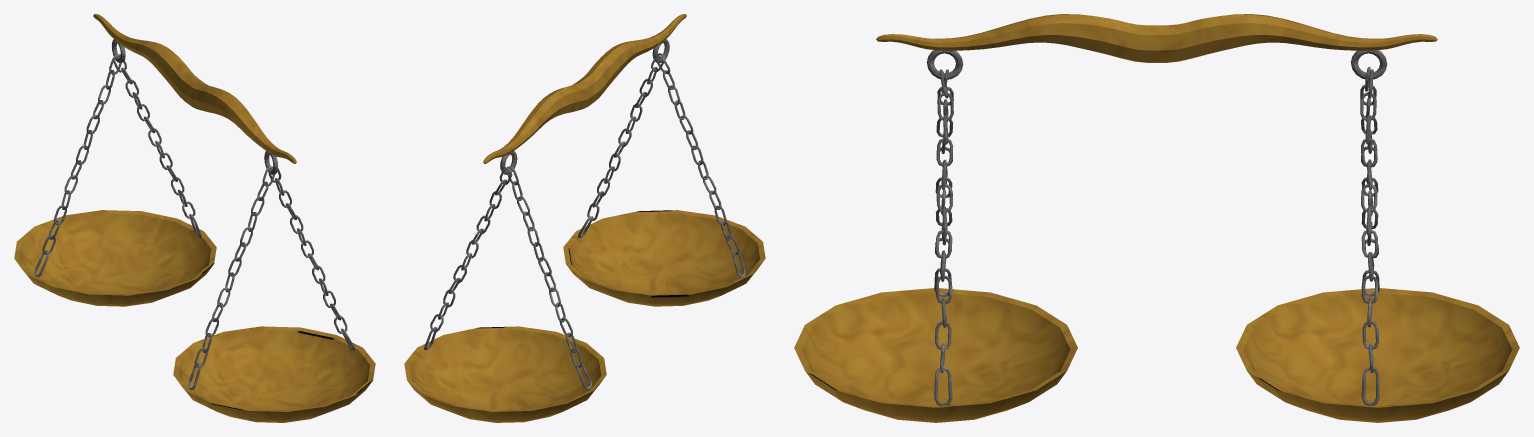
File: ParteSuperior.glb
The picture shows the model from 3 angles, left to right: view 1: azimuth 30°, elevation 25°; view 2: azimuth 150°, elevation 25°; view 3: azimuth 270°, elevation 25°; orthographic projection. The views are drawn at different scales.
Visible parts, largest first — view 1: LeftScale_3, RightScale_7, Beam_0, Chains.002_1, Chains.001_6, Chains_5, Chains.003_2; view 2: RightScale_7, LeftScale_3, Beam_0, Chains.002_1, Chains.001_6, Chains_5, Chains.003_2; view 3: LeftScale_3, RightScale_7, Beam_0, Chains.003_2, Chains_5, Chains.001_6, Chains.002_1.
Part boxes in pixels (x1,y1,x2,y2): LeftScale_3: [173, 326, 375, 422]; RightScale_7: [14, 210, 216, 306]; Beam_0: [93, 14, 296, 163]; Chains.002_1: [188, 166, 275, 389]; Chains.001_6: [34, 54, 121, 276]; Chains_5: [113, 54, 201, 237]; Chains.003_2: [268, 167, 355, 350]; RightScale_7: [404, 326, 606, 422]; LeftScale_3: [563, 210, 765, 306]; Beam_0: [483, 14, 686, 163]; Chains.002_1: [657, 56, 745, 277]; Chains.001_6: [507, 166, 591, 389]; Chains_5: [424, 167, 512, 349]; Chains.003_2: [578, 53, 665, 237]; LeftScale_3: [794, 288, 1077, 422]; RightScale_7: [1236, 288, 1519, 422]; Beam_0: [876, 14, 1437, 62]; Chains.003_2: [934, 69, 953, 405]; Chains_5: [1360, 69, 1379, 405]; Chains.001_6: [1360, 66, 1379, 296]; Chains.002_1: [934, 69, 953, 296].
Bounding box in the file's own units: 0.6247 × 0.9431 × 1.6.
Materials: 1 (1 with a texture image).
